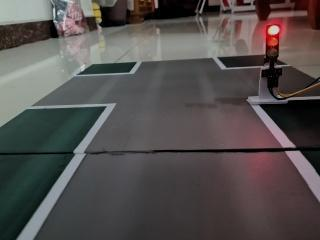red: (253, 15, 286, 74)
